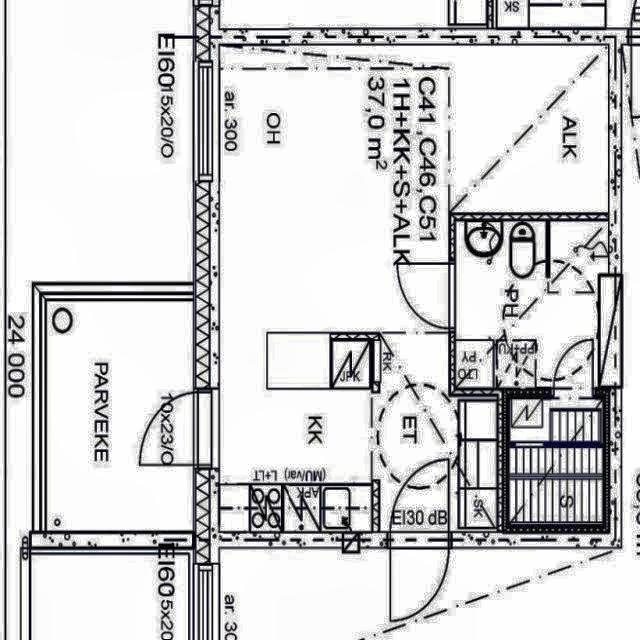room: (47, 301, 194, 531), (456, 221, 609, 388), (510, 399, 603, 524)
